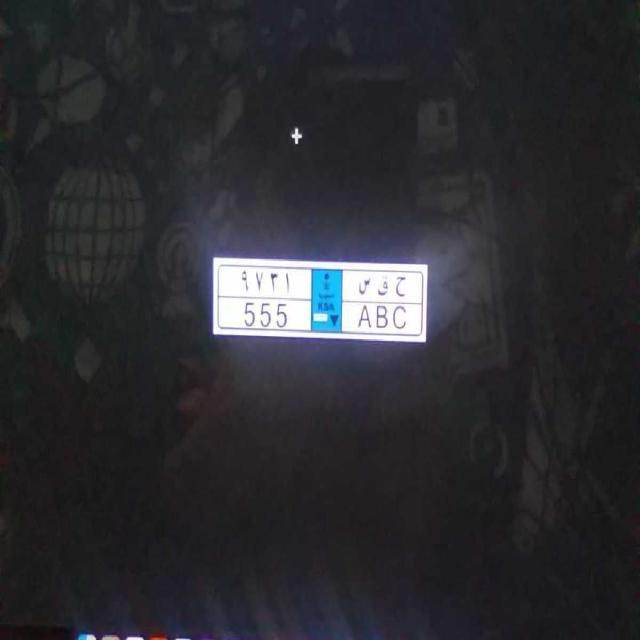license_plate: (233, 294, 412, 342)
